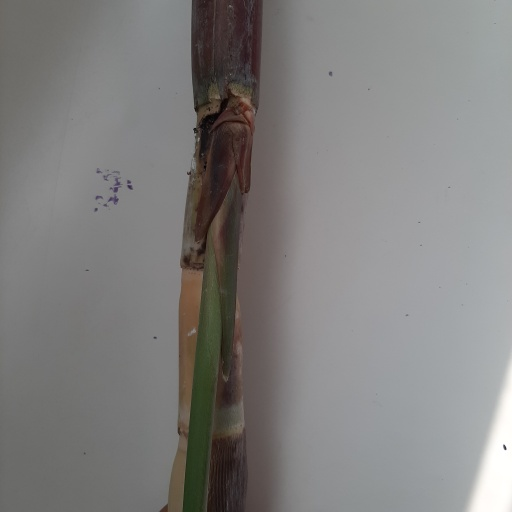Sprouted_Bud: (215, 98, 253, 189)
